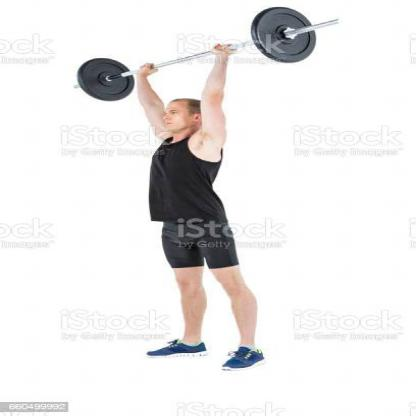Barbell: (242, 3, 355, 66)
